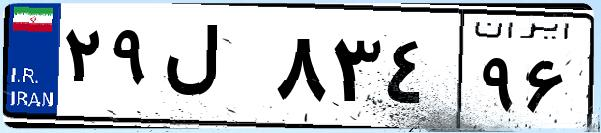2: (57, 26, 110, 100)
3: (330, 28, 385, 110)
4: (385, 28, 445, 110)
6: (525, 38, 570, 115)
8: (270, 28, 330, 110)
9: (475, 38, 525, 113), (110, 28, 158, 98)
ل: (158, 20, 270, 120)
